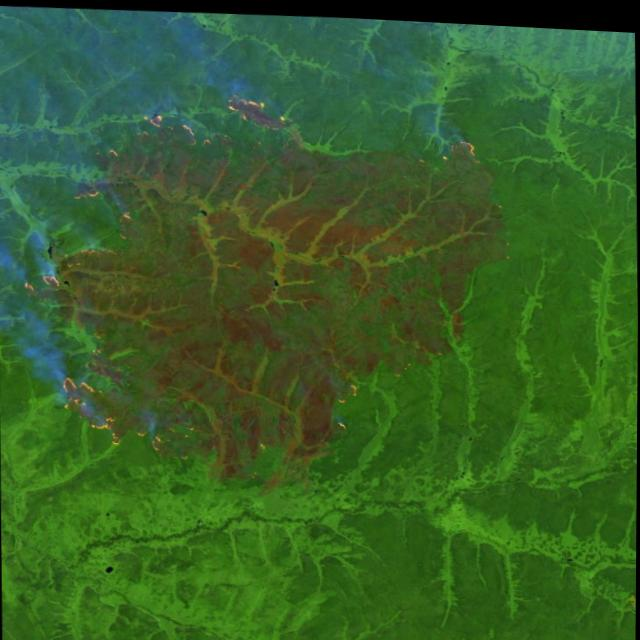fire: (8, 79, 298, 468), (420, 128, 488, 172), (317, 372, 371, 411)
